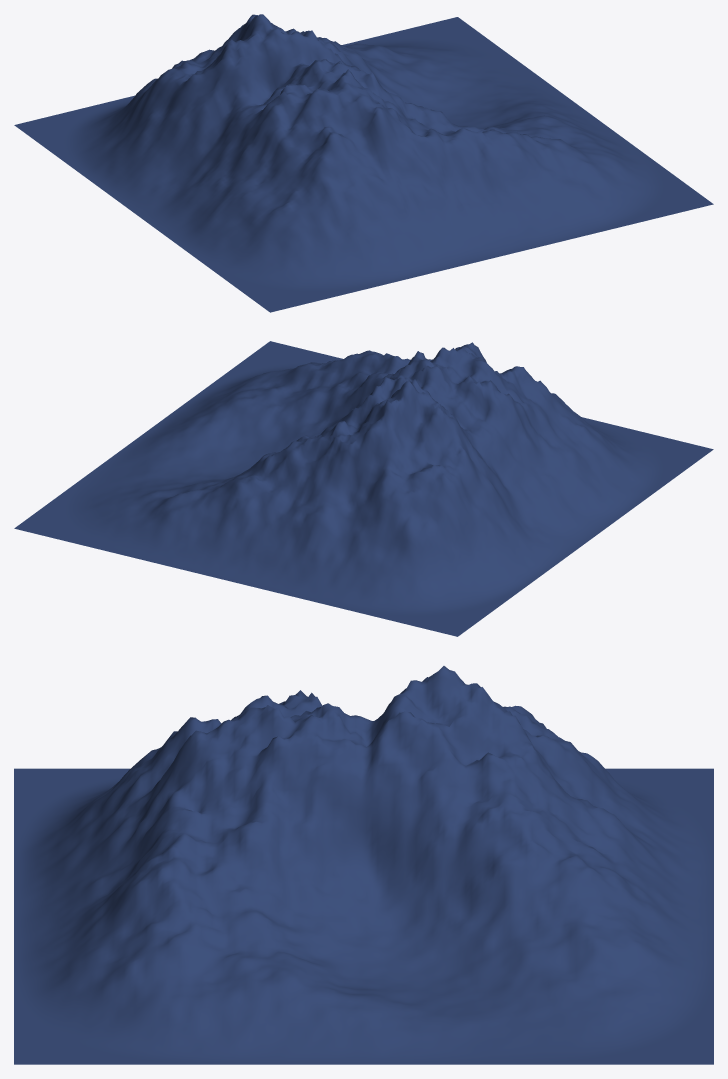
File: mountain_model1.glb
The picture shows the model from 3 angles, top to bottom: view 1: azimuth 30°, elevation 25°; view 2: azimuth 150°, elevation 25°; view 3: azimuth 270°, elevation 25°; orthographic projection. The views are drawn at different scales.
Parts seen in each view (by area): view 1: Landscape; view 2: Landscape; view 3: Landscape.
Boxes of the visible parts, <box> form: Landscape: <box>14,14,713,312</box>; Landscape: <box>14,341,713,636</box>; Landscape: <box>14,666,713,1064</box>.
Size of the model in its own units: 2 by 0.6338 by 2.
